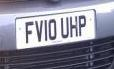F: (24, 21, 34, 44)
H: (69, 15, 79, 39)
I: (43, 19, 48, 42)
O: (48, 18, 57, 41)
P: (78, 14, 86, 36)
U: (60, 16, 70, 39)
V: (34, 20, 44, 42)
